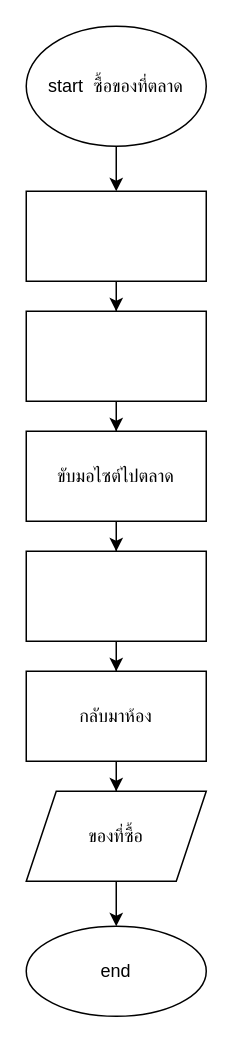
The diagram is 233 pixels wide and 1043 high, and some of its shapes have lost their labels. The centre of each missing label's shape, as x and y in pixels:
"คิดของที่อยากจะซื้อ จดไว้" goes at point (115, 235).
"ซื้อของตามที่ต้องการ" goes at point (115, 595).
"เตรียมเงิน" goes at point (115, 355).
